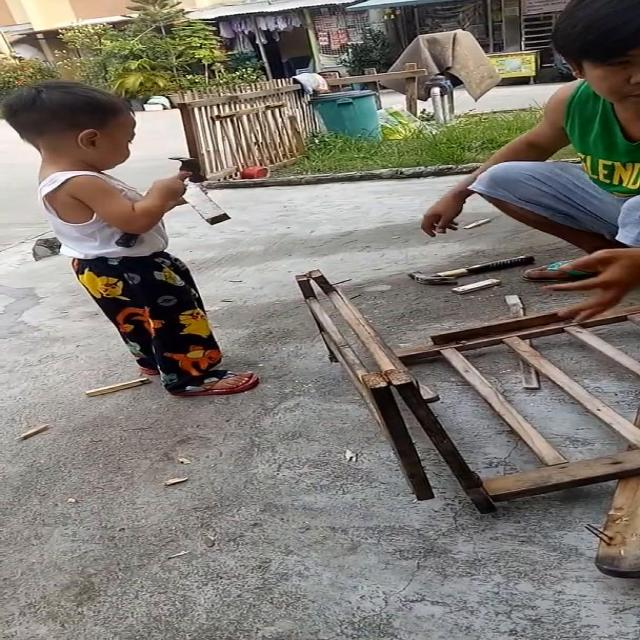hammer: (113, 154, 206, 249), (407, 253, 532, 286)
